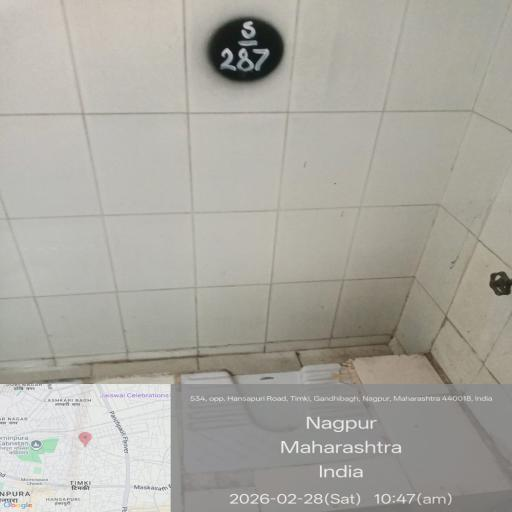clean_floor: (17, 18, 512, 371)
partial_dirty_urinal: (23, 354, 480, 512)
